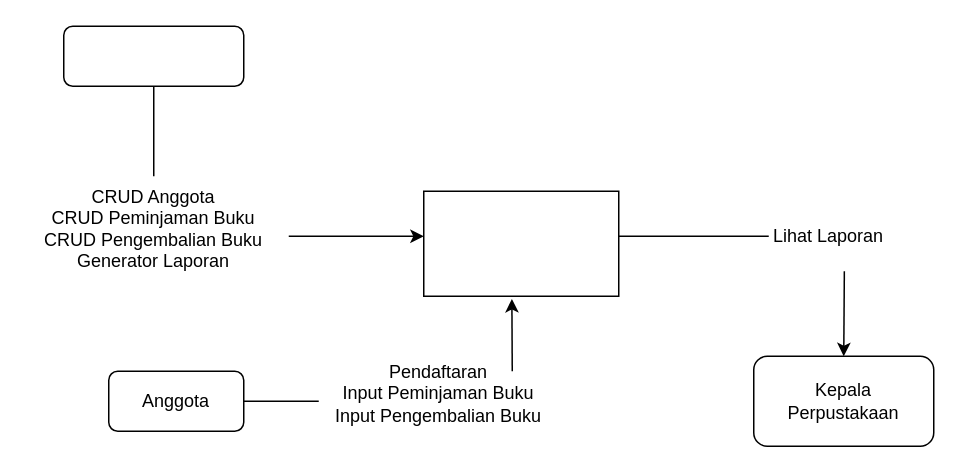
This 960x473 diagram has some shape labels left out. The box of each missing label's shape, as (x1, y1, x2, y2) in pixels:
Petugas: (62, 25, 244, 86)
Sistem Informasi Perpustakaan: (422, 190, 619, 296)
